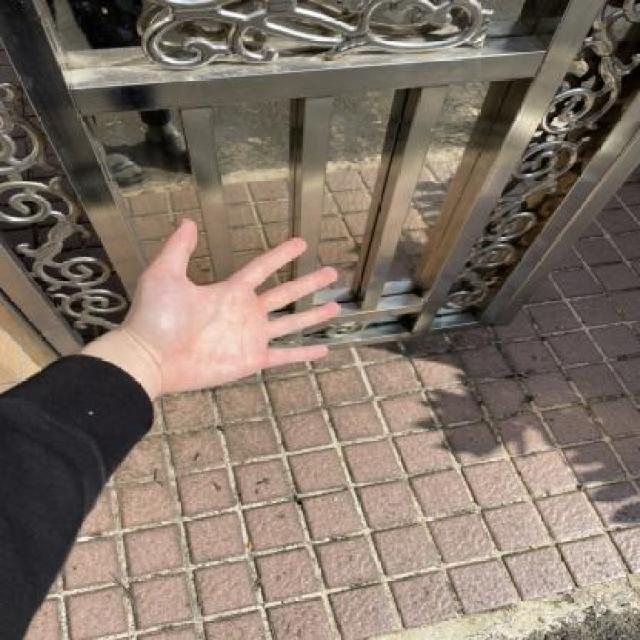hand: (100, 210, 360, 395)
